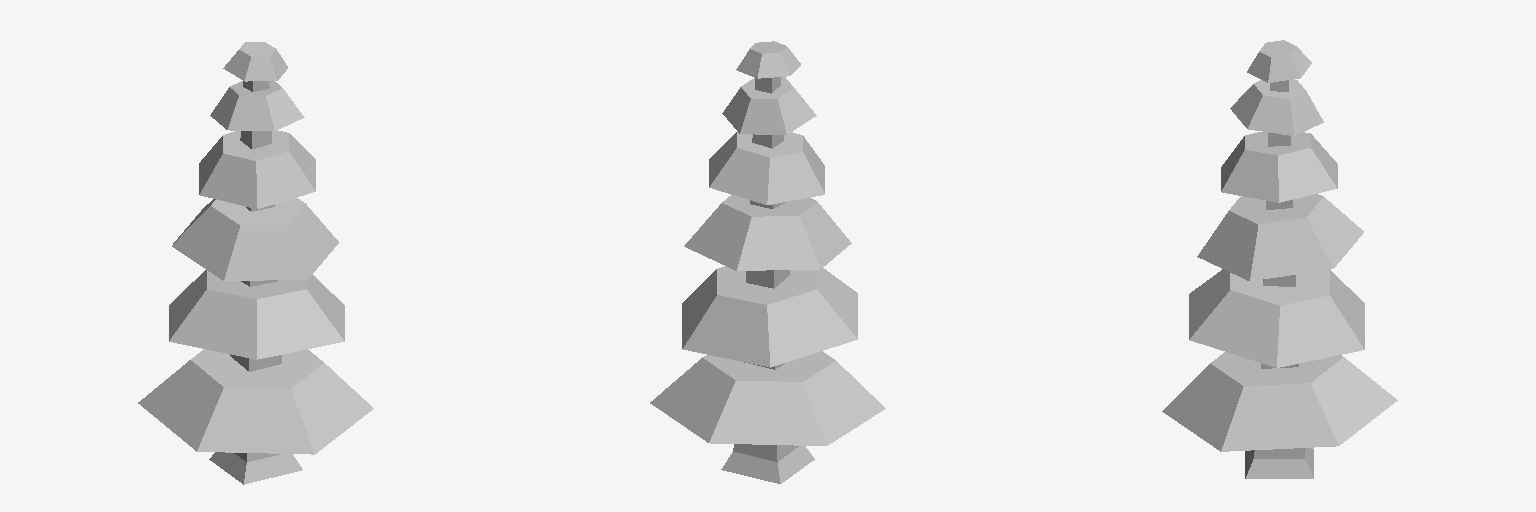
Rendered from tree_pineSmall_round5.obj.
3 views of the same model, side by side, from view 1: azimuth 30°, elevation 25°; view 2: azimuth 150°, elevation 25°; view 3: azimuth 270°, elevation 25° (orthographic).
Parts seen in each view (by area): view 1: tree_pineSmall_round5; view 2: tree_pineSmall_round5; view 3: tree_pineSmall_round5.
Part boxes in pixels (x1,y1,x2,y2): tree_pineSmall_round5: (138,42,373,484); tree_pineSmall_round5: (650,41,885,483); tree_pineSmall_round5: (1162,40,1397,478).
Bounding box in the file's own units: 5.32 × 11.96 × 6.13.